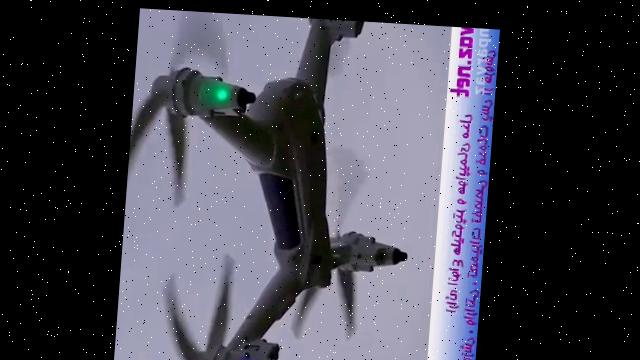drone: (119, 7, 424, 360)
